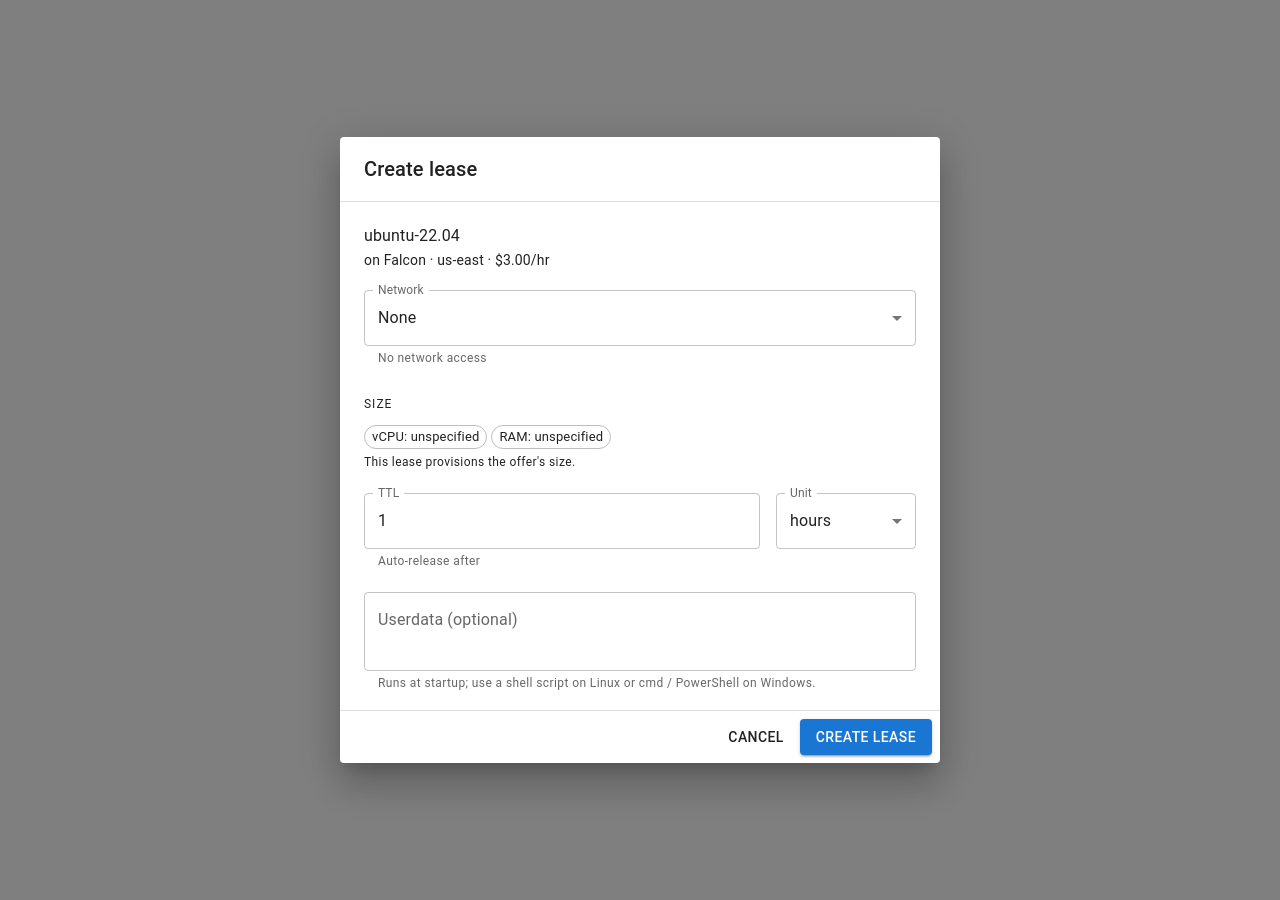
Scenario: CreateLeaseDialog › surfaces an at_capacity failure with a distinct, non-billing message
Click the button "Create lease": [866, 737] box x1=800 y1=718 x2=932 y2=755
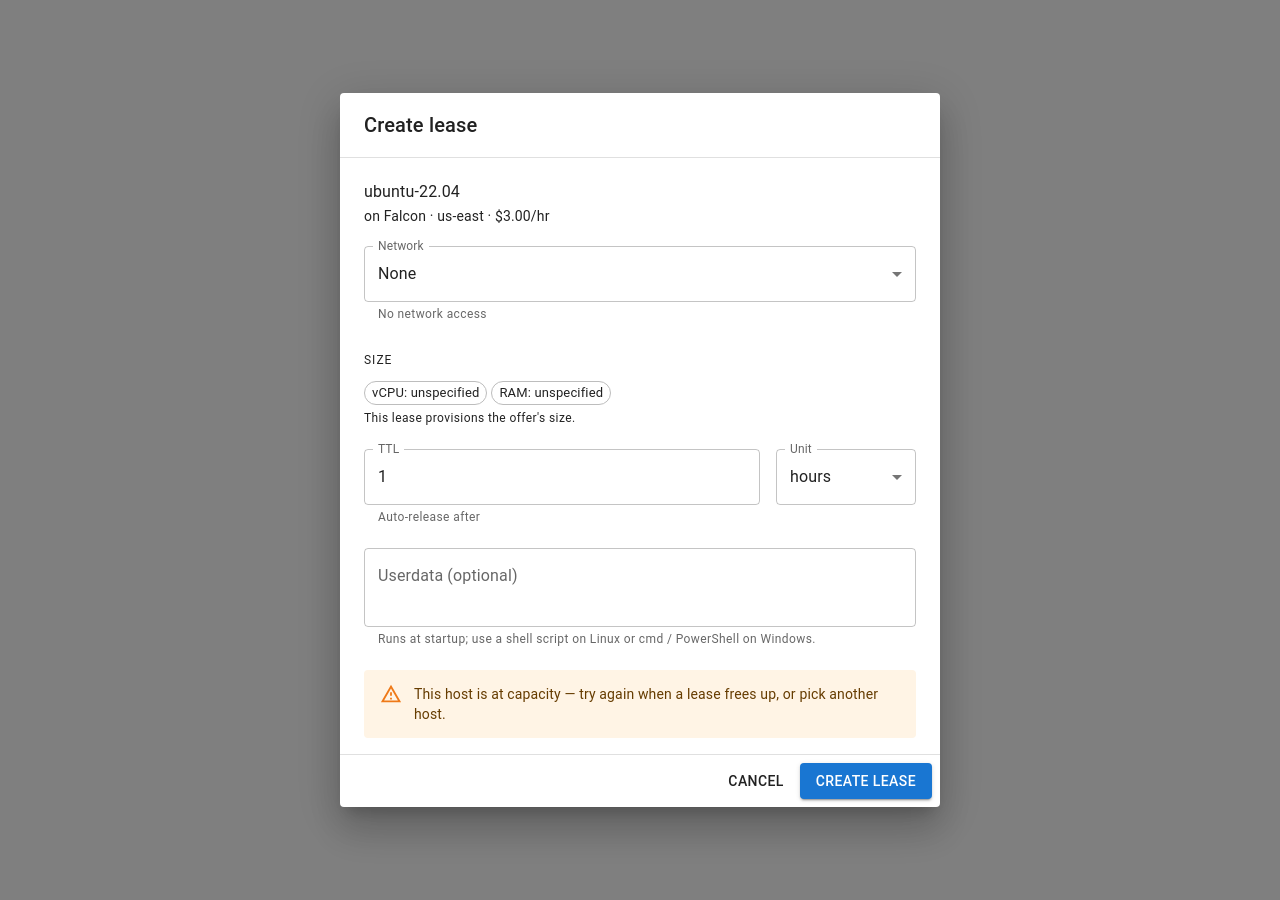
Now the text "at capacity" is shown, box x1=414 y1=686 x2=878 y2=722
